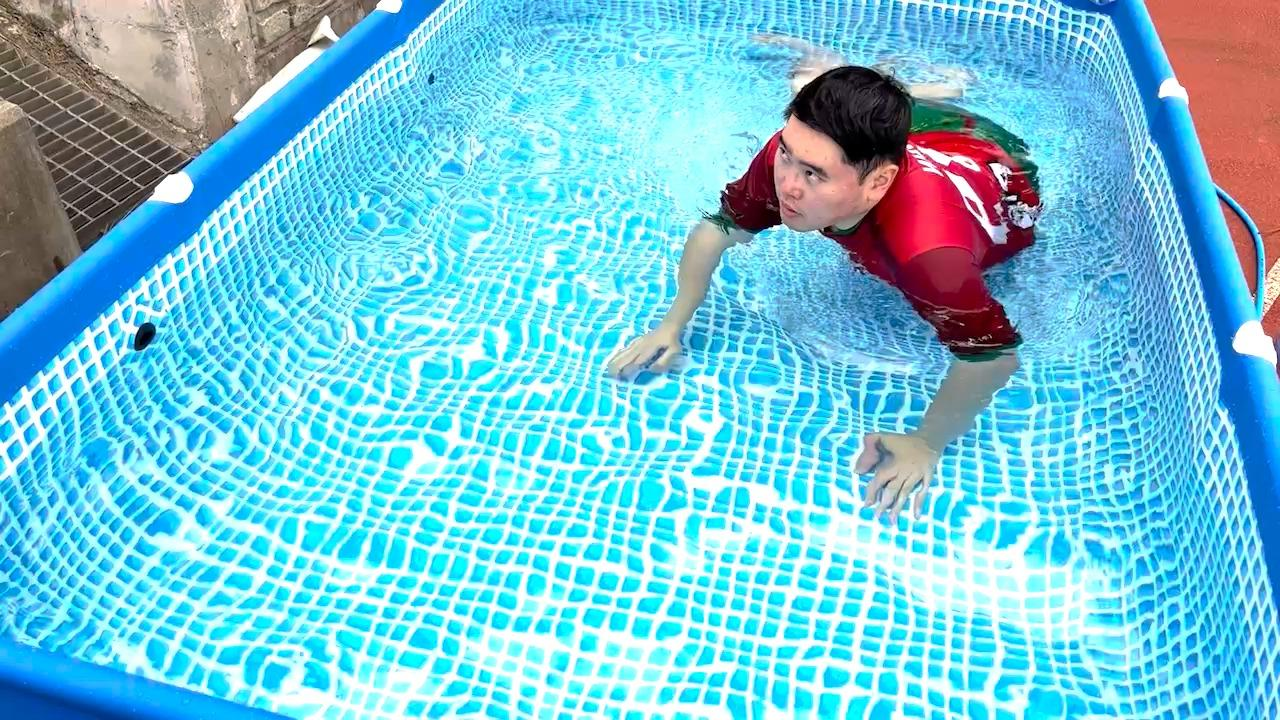Swimming: (582, 30, 1078, 461)
